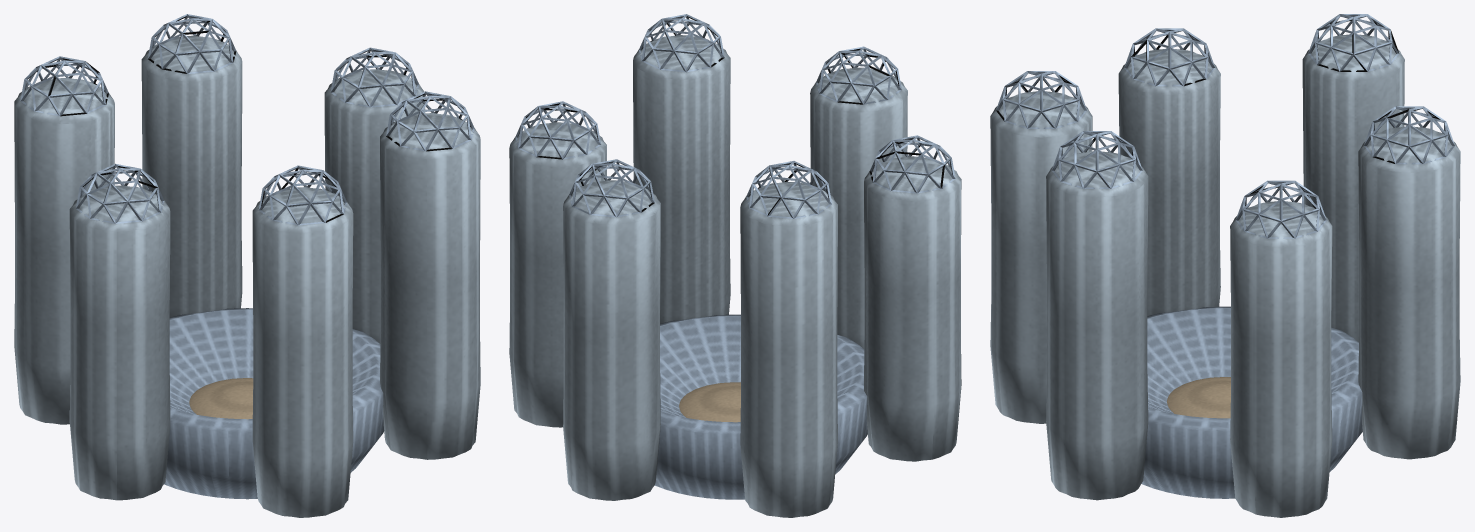
Rendered from rare_sunbeam_well.glb.
The picture shows the model from 3 angles, left to right: view 1: azimuth 30°, elevation 25°; view 2: azimuth 150°, elevation 25°; view 3: azimuth 270°, elevation 25°; orthographic projection. The views are drawn at different scales.
Parts seen in each view (by area): view 1: RareSunbeamWell; view 2: RareSunbeamWell; view 3: RareSunbeamWell.
Part boxes in pixels (x1,y1,x2,y2): RareSunbeamWell: [14, 14, 480, 517]; RareSunbeamWell: [509, 14, 961, 517]; RareSunbeamWell: [990, 14, 1460, 517].
Bounding box in the file's own units: 7.85 × 7.2 × 7.97.
Materials: 3 (3 with a texture image).
